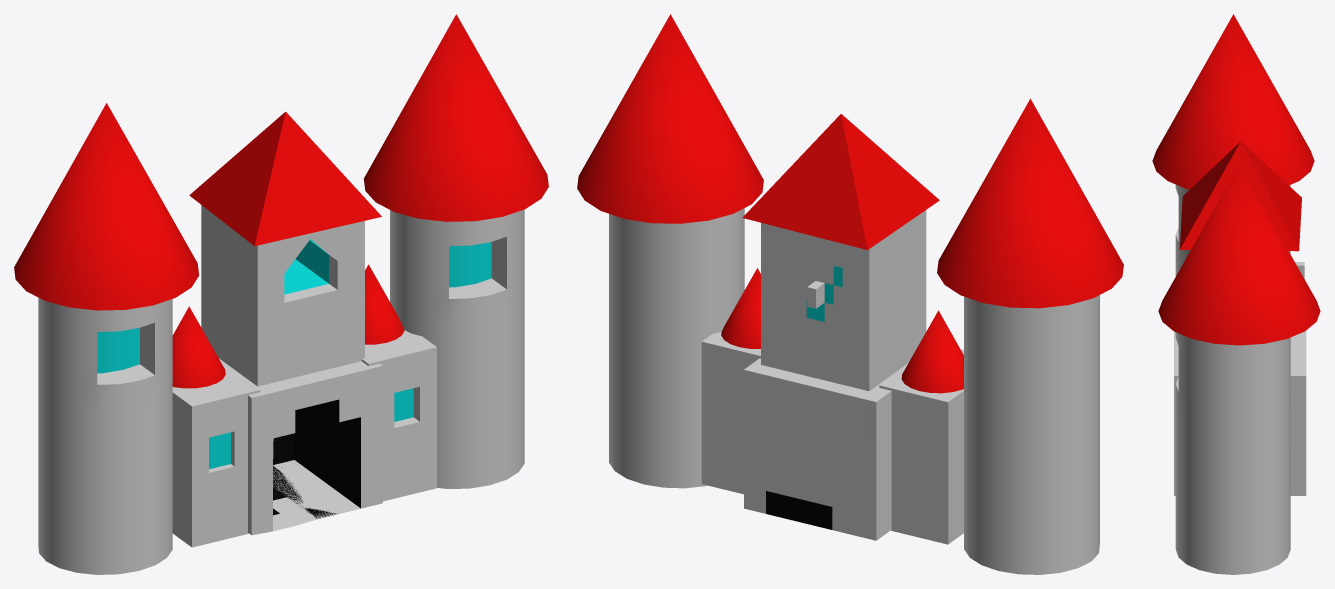
File: castal.fbx
3 views of the same model, side by side, from view 1: azimuth 30°, elevation 25°; view 2: azimuth 150°, elevation 25°; view 3: azimuth 270°, elevation 25° (orthographic). The views are drawn at different scales.
Parts seen in each view (by area): view 1: pCylinder1, pCylinder2, pCube4, pCone4, pCone5, pCube1, pCone3, pCube2, pCube3, pCone1, pCone2; view 2: pCylinder1, pCylinder2, pCube4, pCone5, pCone4, pCube1, pCone3, pCube2, pCube3, pCone1, pCone2; view 3: pCylinder2, pCone5, pCone4, pCone3, pCube1, pCylinder1.
Part boxes in pixels (left/top/right/bottom): pCylinder1: left=38, top=297, right=172, bottom=574; pCylinder2: left=390, top=209, right=524, bottom=488; pCube4: left=201, top=205, right=364, bottom=386; pCone4: left=14, top=103, right=199, bottom=310; pCone5: left=364, top=14, right=548, bottom=221; pCube1: left=219, top=358, right=382, bottom=535; pCone3: left=189, top=111, right=381, bottom=246; pCube2: left=172, top=361, right=260, bottom=547; pCube3: left=361, top=330, right=436, bottom=501; pCone1: left=172, top=306, right=225, bottom=388; pCone2: left=365, top=264, right=404, bottom=344; pCylinder1: left=964, top=295, right=1099, bottom=574; pCylinder2: left=609, top=208, right=744, bottom=488; pCube4: left=761, top=210, right=926, bottom=391; pCone5: left=577, top=14, right=763, bottom=223; pCone4: left=937, top=98, right=1123, bottom=308; pCube1: left=744, top=358, right=908, bottom=540; pCone3: left=742, top=114, right=939, bottom=249; pCube2: left=879, top=349, right=963, bottom=544; pCube3: left=701, top=331, right=760, bottom=494; pCone1: left=901, top=310, right=963, bottom=393; pCone2: left=721, top=268, right=760, bottom=348; pCylinder2: left=1175, top=332, right=1290, bottom=574; pCone5: left=1158, top=164, right=1320, bottom=345; pCone4: left=1152, top=14, right=1314, bottom=189; pCone3: left=1179, top=141, right=1301, bottom=251; pCube1: left=1174, top=330, right=1306, bottom=495; pCylinder1: left=1175, top=185, right=1290, bottom=276.
Size of the model in its own units: 29.15 by 24.04 by 9.47.
